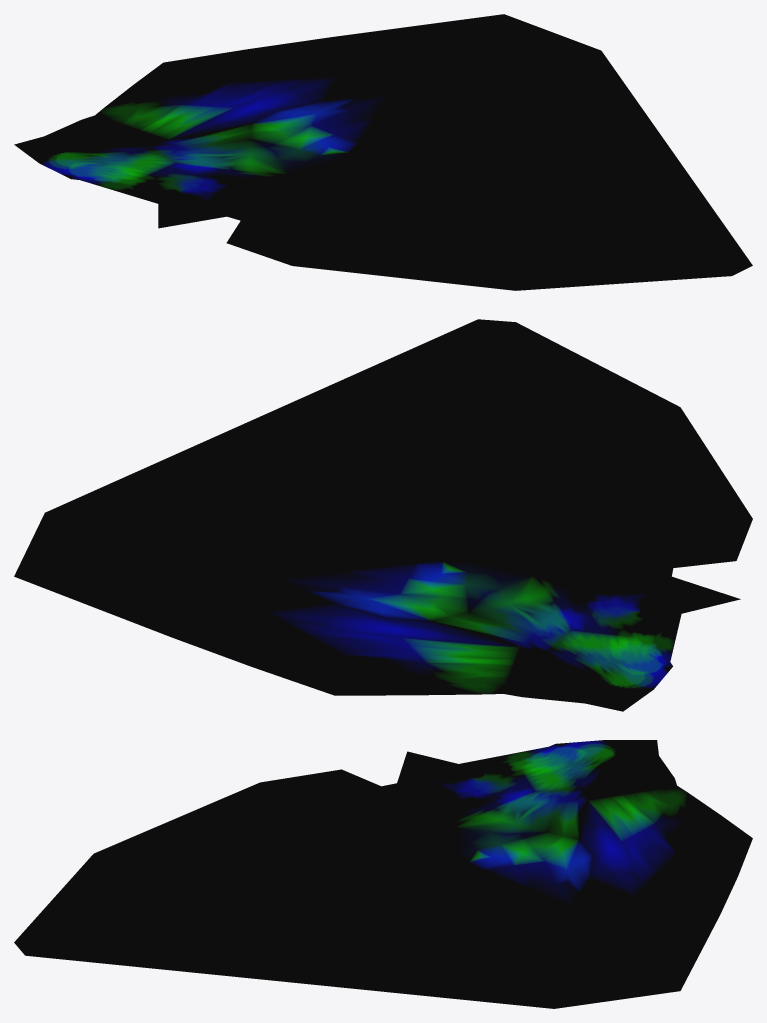
The picture shows the model from 3 angles, top to bottom: view 1: azimuth 30°, elevation 25°; view 2: azimuth 150°, elevation 25°; view 3: azimuth 270°, elevation 25°; orthographic projection. The views are drawn at different scales.
Visible parts, largest first — view 1: Sprite; view 2: Sprite; view 3: Sprite.
Boxes of the visible parts, x1,y1,x2,y2 form: Sprite: (14,14,752,290); Sprite: (14,319,752,711); Sprite: (14,740,752,1008).
Bounding box in the file's own units: 4767 × 2.78 × 5541.
